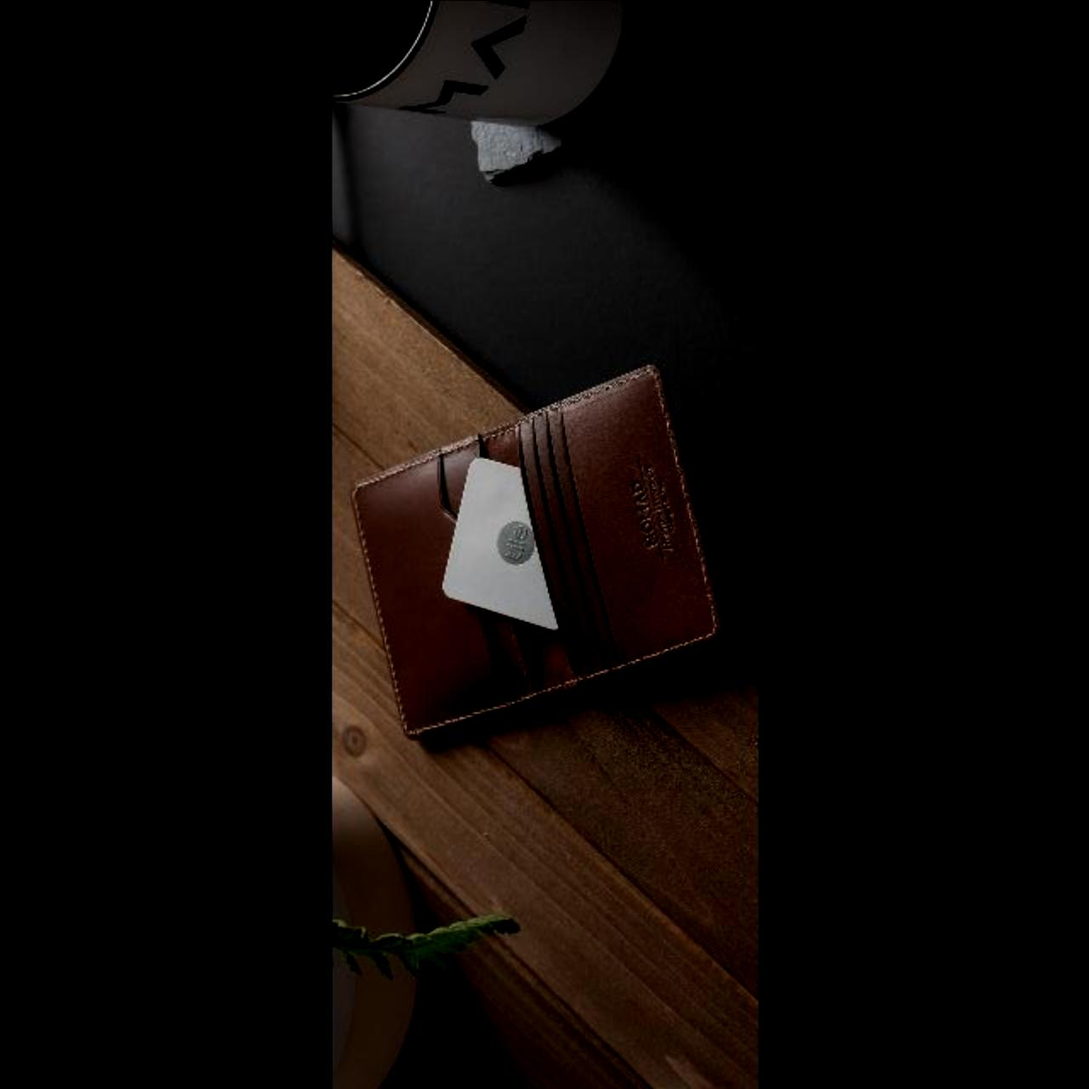wallet: (354, 334, 732, 764)
